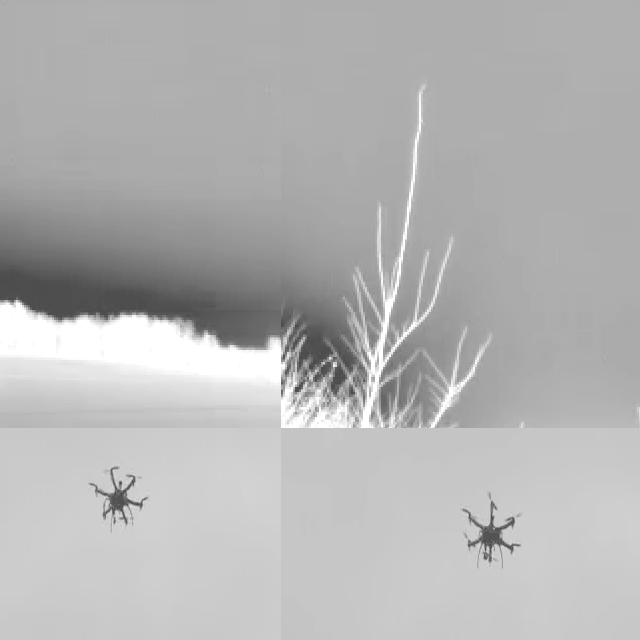drone: (458, 484, 526, 574), (85, 452, 148, 530)
